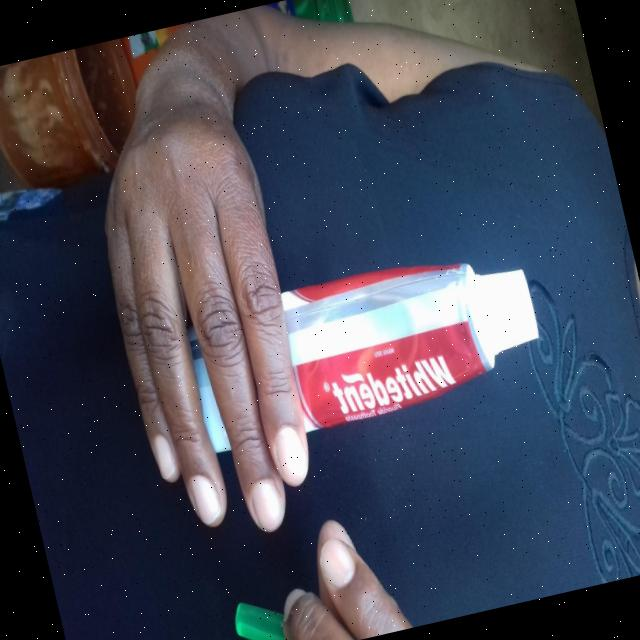Toothpaste: (180, 235, 554, 464)
